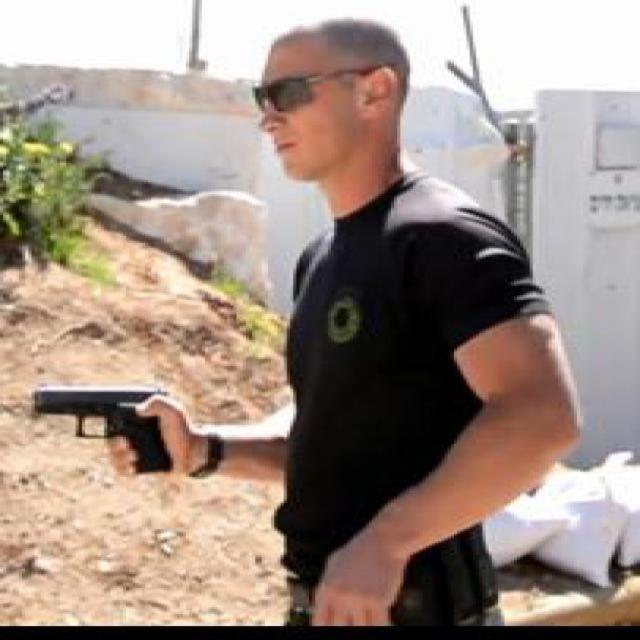pistol: (28, 379, 180, 476)
